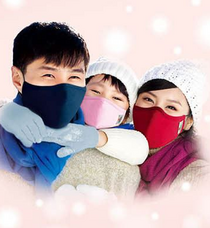face_mask: (25, 48, 85, 125), (132, 81, 184, 147), (85, 72, 129, 128)
